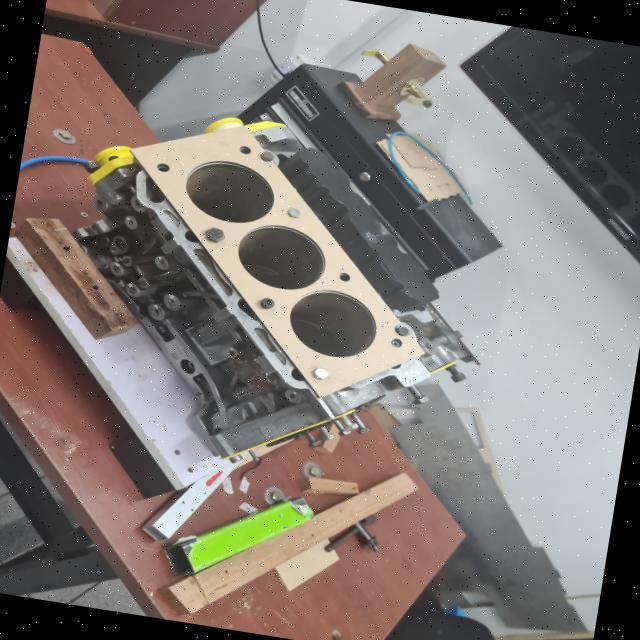tor_v1: (130, 126, 423, 398)
